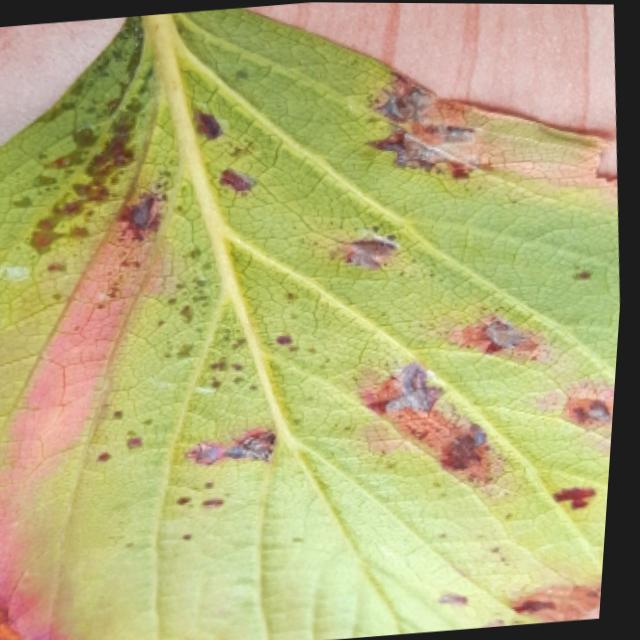Angular Leafspot: (0, 14, 622, 640)
